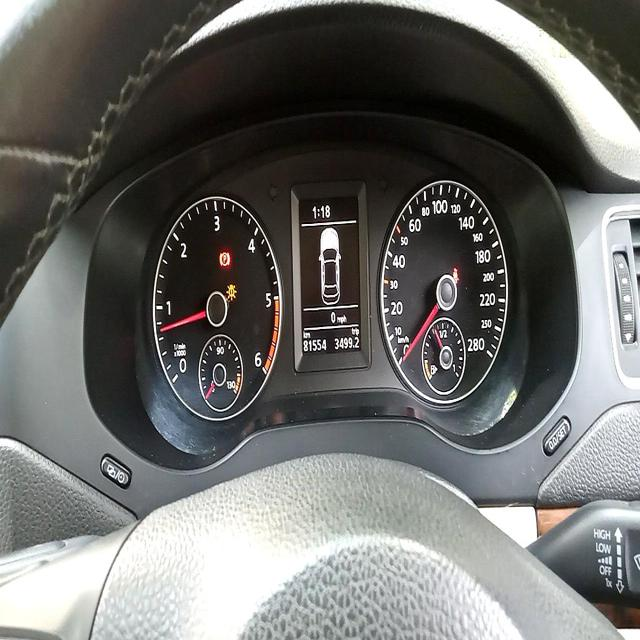odometer: (303, 336, 328, 354)
